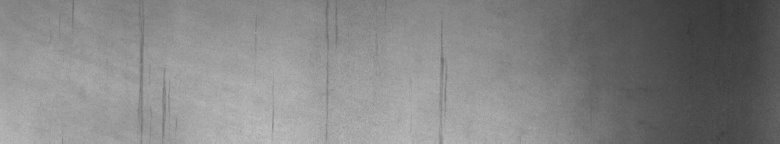ka: (136, 33, 168, 136)
